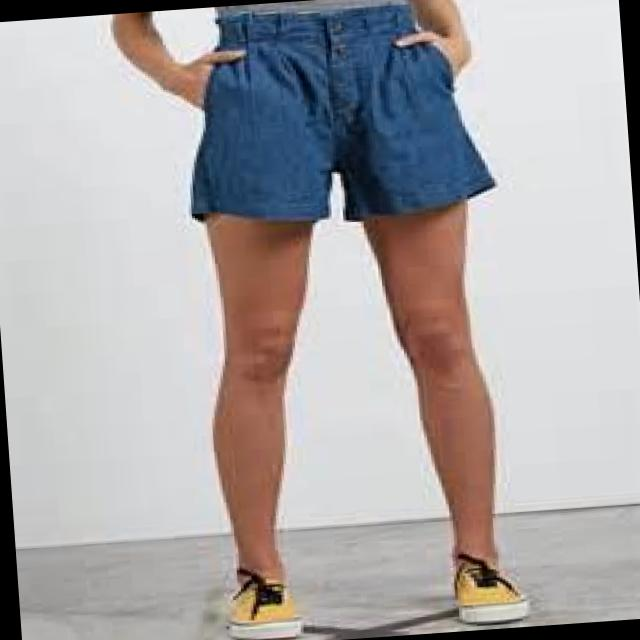short: (176, 0, 500, 229)
